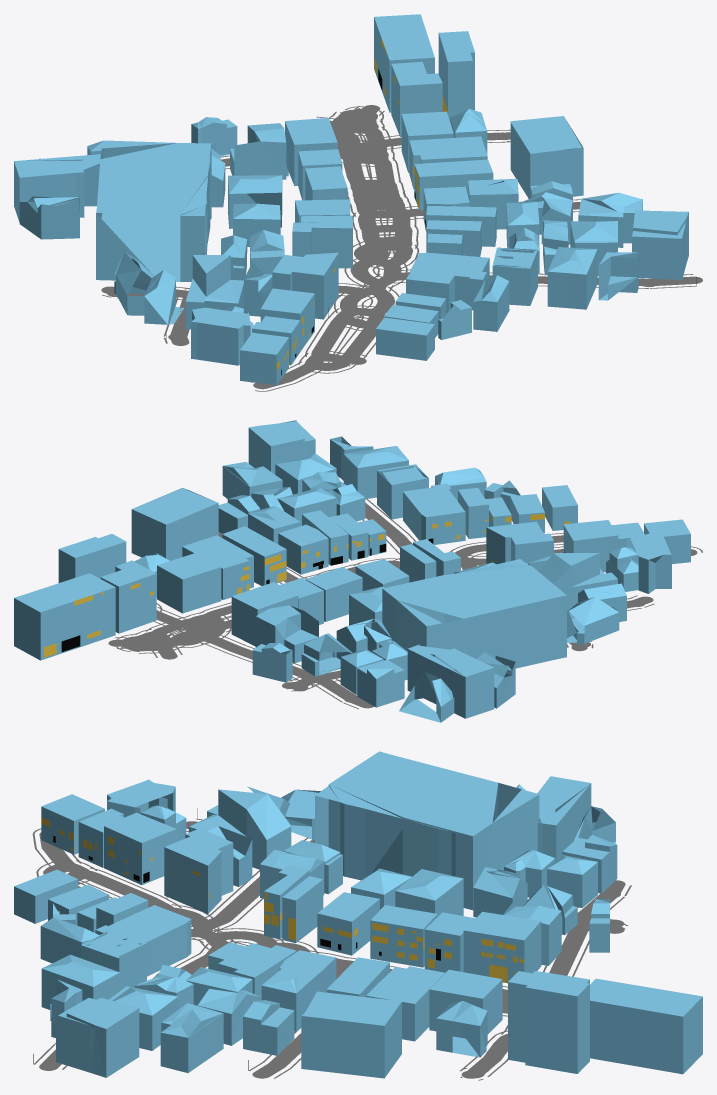
File: results_route1_lod3_350m.obj
The picture shows the model from 3 angles, top to bottom: view 1: azimuth 30°, elevation 25°; view 2: azimuth 150°, elevation 25°; view 3: azimuth 270°, elevation 25°; orthographic projection. The views are drawn at different scales.
Size of the model in its own units: 129 by 17.83 by 143.
